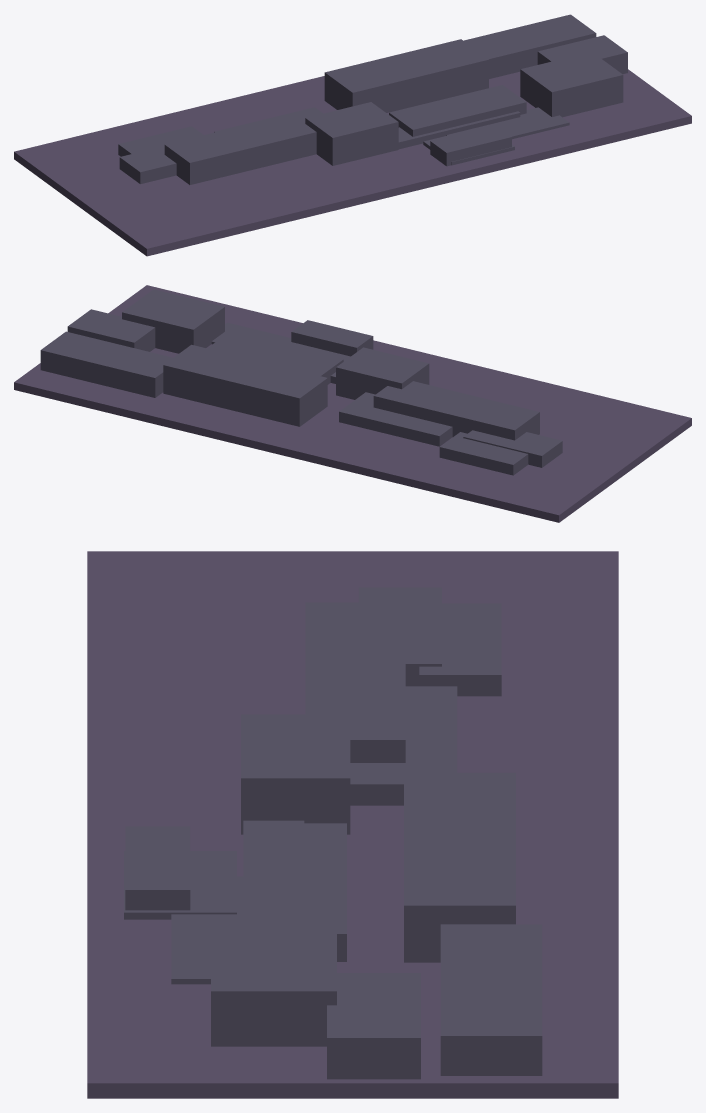
File: vehicle-barricade-rubble.glb
3 renders of one model, top to bottom at view 1: azimuth 30°, elevation 25°; view 2: azimuth 150°, elevation 25°; view 3: azimuth 270°, elevation 25°, orthographic. The views are drawn at different scales.
Visible parts, largest first — view 1: rough-ground, fragment-4, fragment-3, fragment-2, fragment-13, fragment-9, fragment-8, fragment-0, fragment-5, fragment-12, fragment-1, fragment-10 (+2 smaller); view 2: rough-ground, fragment-4, fragment-3, fragment-9, fragment-2, fragment-13, fragment-8, fragment-6, fragment-5, fragment-10, fragment-0, fragment-12 (+1 smaller); view 3: rough-ground, fragment-4, fragment-9, fragment-2, fragment-3, fragment-13, fragment-8, fragment-5, fragment-6, fragment-10, fragment-0, fragment-12 (+3 smaller).
Part boxes in pixels (x1,y1,x2,y2): rough-ground: [14, 69, 691, 256]; fragment-4: [324, 39, 488, 112]; fragment-3: [164, 110, 316, 184]; fragment-2: [520, 52, 623, 117]; fragment-13: [305, 102, 398, 165]; fragment-9: [463, 14, 596, 78]; fragment-8: [389, 85, 526, 136]; fragment-0: [430, 125, 511, 166]; fragment-5: [537, 35, 627, 74]; fragment-12: [119, 146, 176, 184]; fragment-1: [446, 107, 569, 139]; fragment-10: [118, 126, 203, 156]; rough-ground: [14, 285, 691, 522]; fragment-4: [163, 344, 327, 426]; fragment-3: [373, 381, 539, 440]; fragment-9: [40, 331, 172, 397]; fragment-2: [122, 289, 224, 353]; fragment-13: [336, 347, 429, 399]; fragment-8: [207, 331, 343, 384]; fragment-6: [339, 392, 452, 446]; fragment-5: [67, 309, 155, 351]; fragment-10: [439, 432, 528, 475]; fragment-0: [291, 320, 373, 356]; fragment-12: [463, 430, 562, 467]; rough-ground: [87, 551, 618, 1098]; fragment-4: [404, 772, 515, 962]; fragment-9: [440, 924, 542, 1075]; fragment-2: [211, 921, 336, 1046]; fragment-3: [305, 602, 405, 762]; fragment-13: [241, 714, 350, 834]; fragment-8: [251, 823, 346, 961]; fragment-5: [327, 973, 420, 1079]; fragment-6: [350, 686, 457, 805]; fragment-10: [419, 603, 501, 696]; fragment-0: [125, 826, 190, 910]; fragment-12: [358, 587, 441, 686].
Bounding box in the file's own units: 4.5 × 0.2851 × 1.9.
